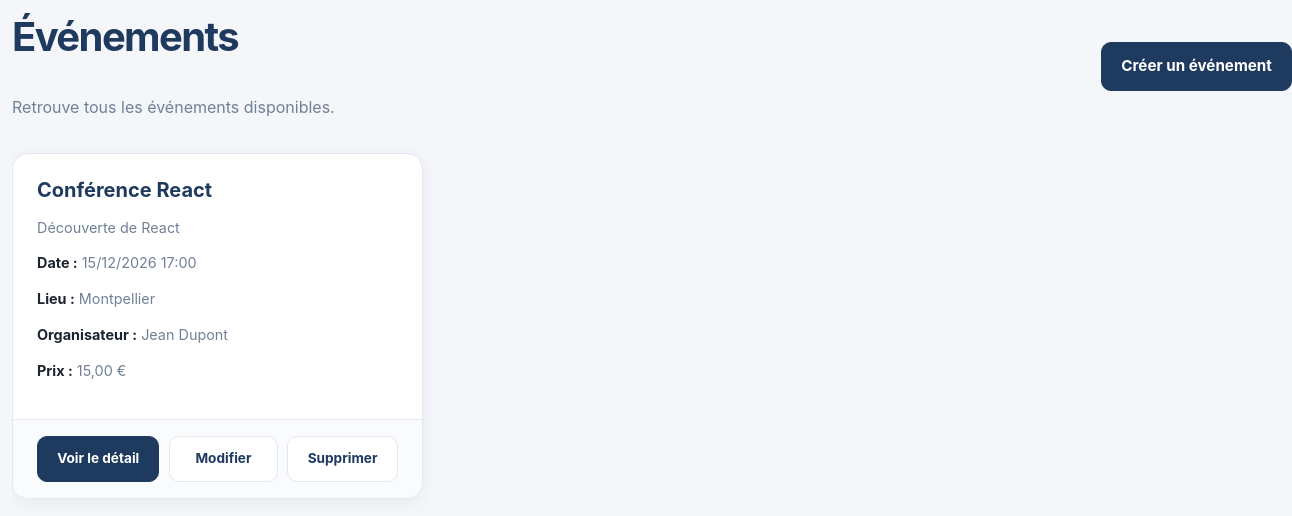
Scenario: Suppression d'un événement › [F03.1] supprime l'événement après confirmation
This screenshot has width=1292, height=516.
Expected: the heading "Conférence React" is shown, [37, 178, 212, 202]
Click the button "Supprimer".
click(343, 459)  # box [288, 436, 398, 482]
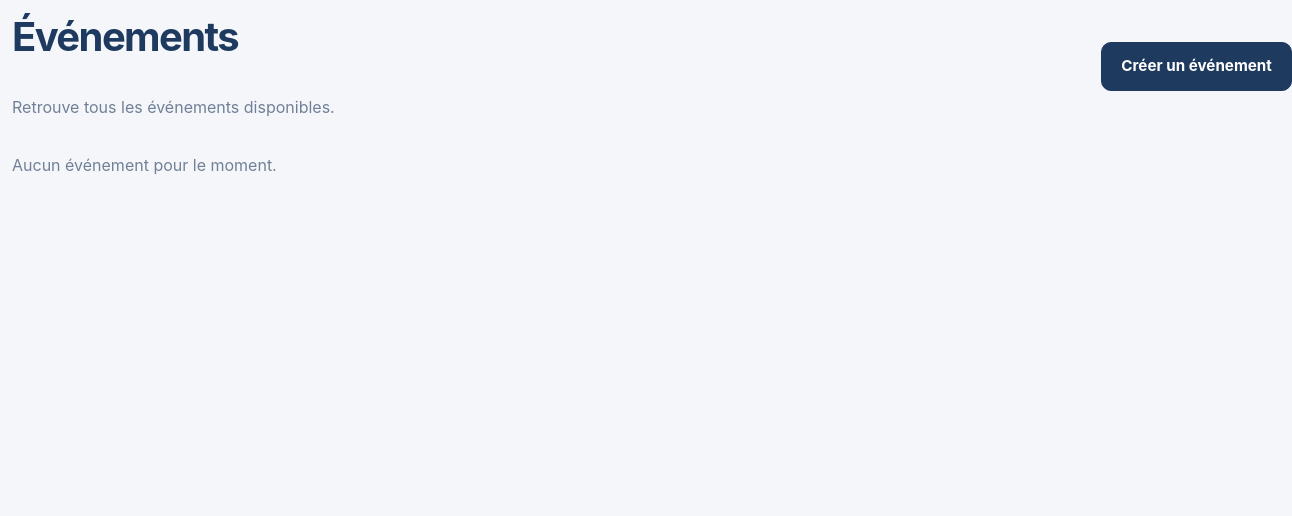
Expected: the heading "Conférence React" is gone
